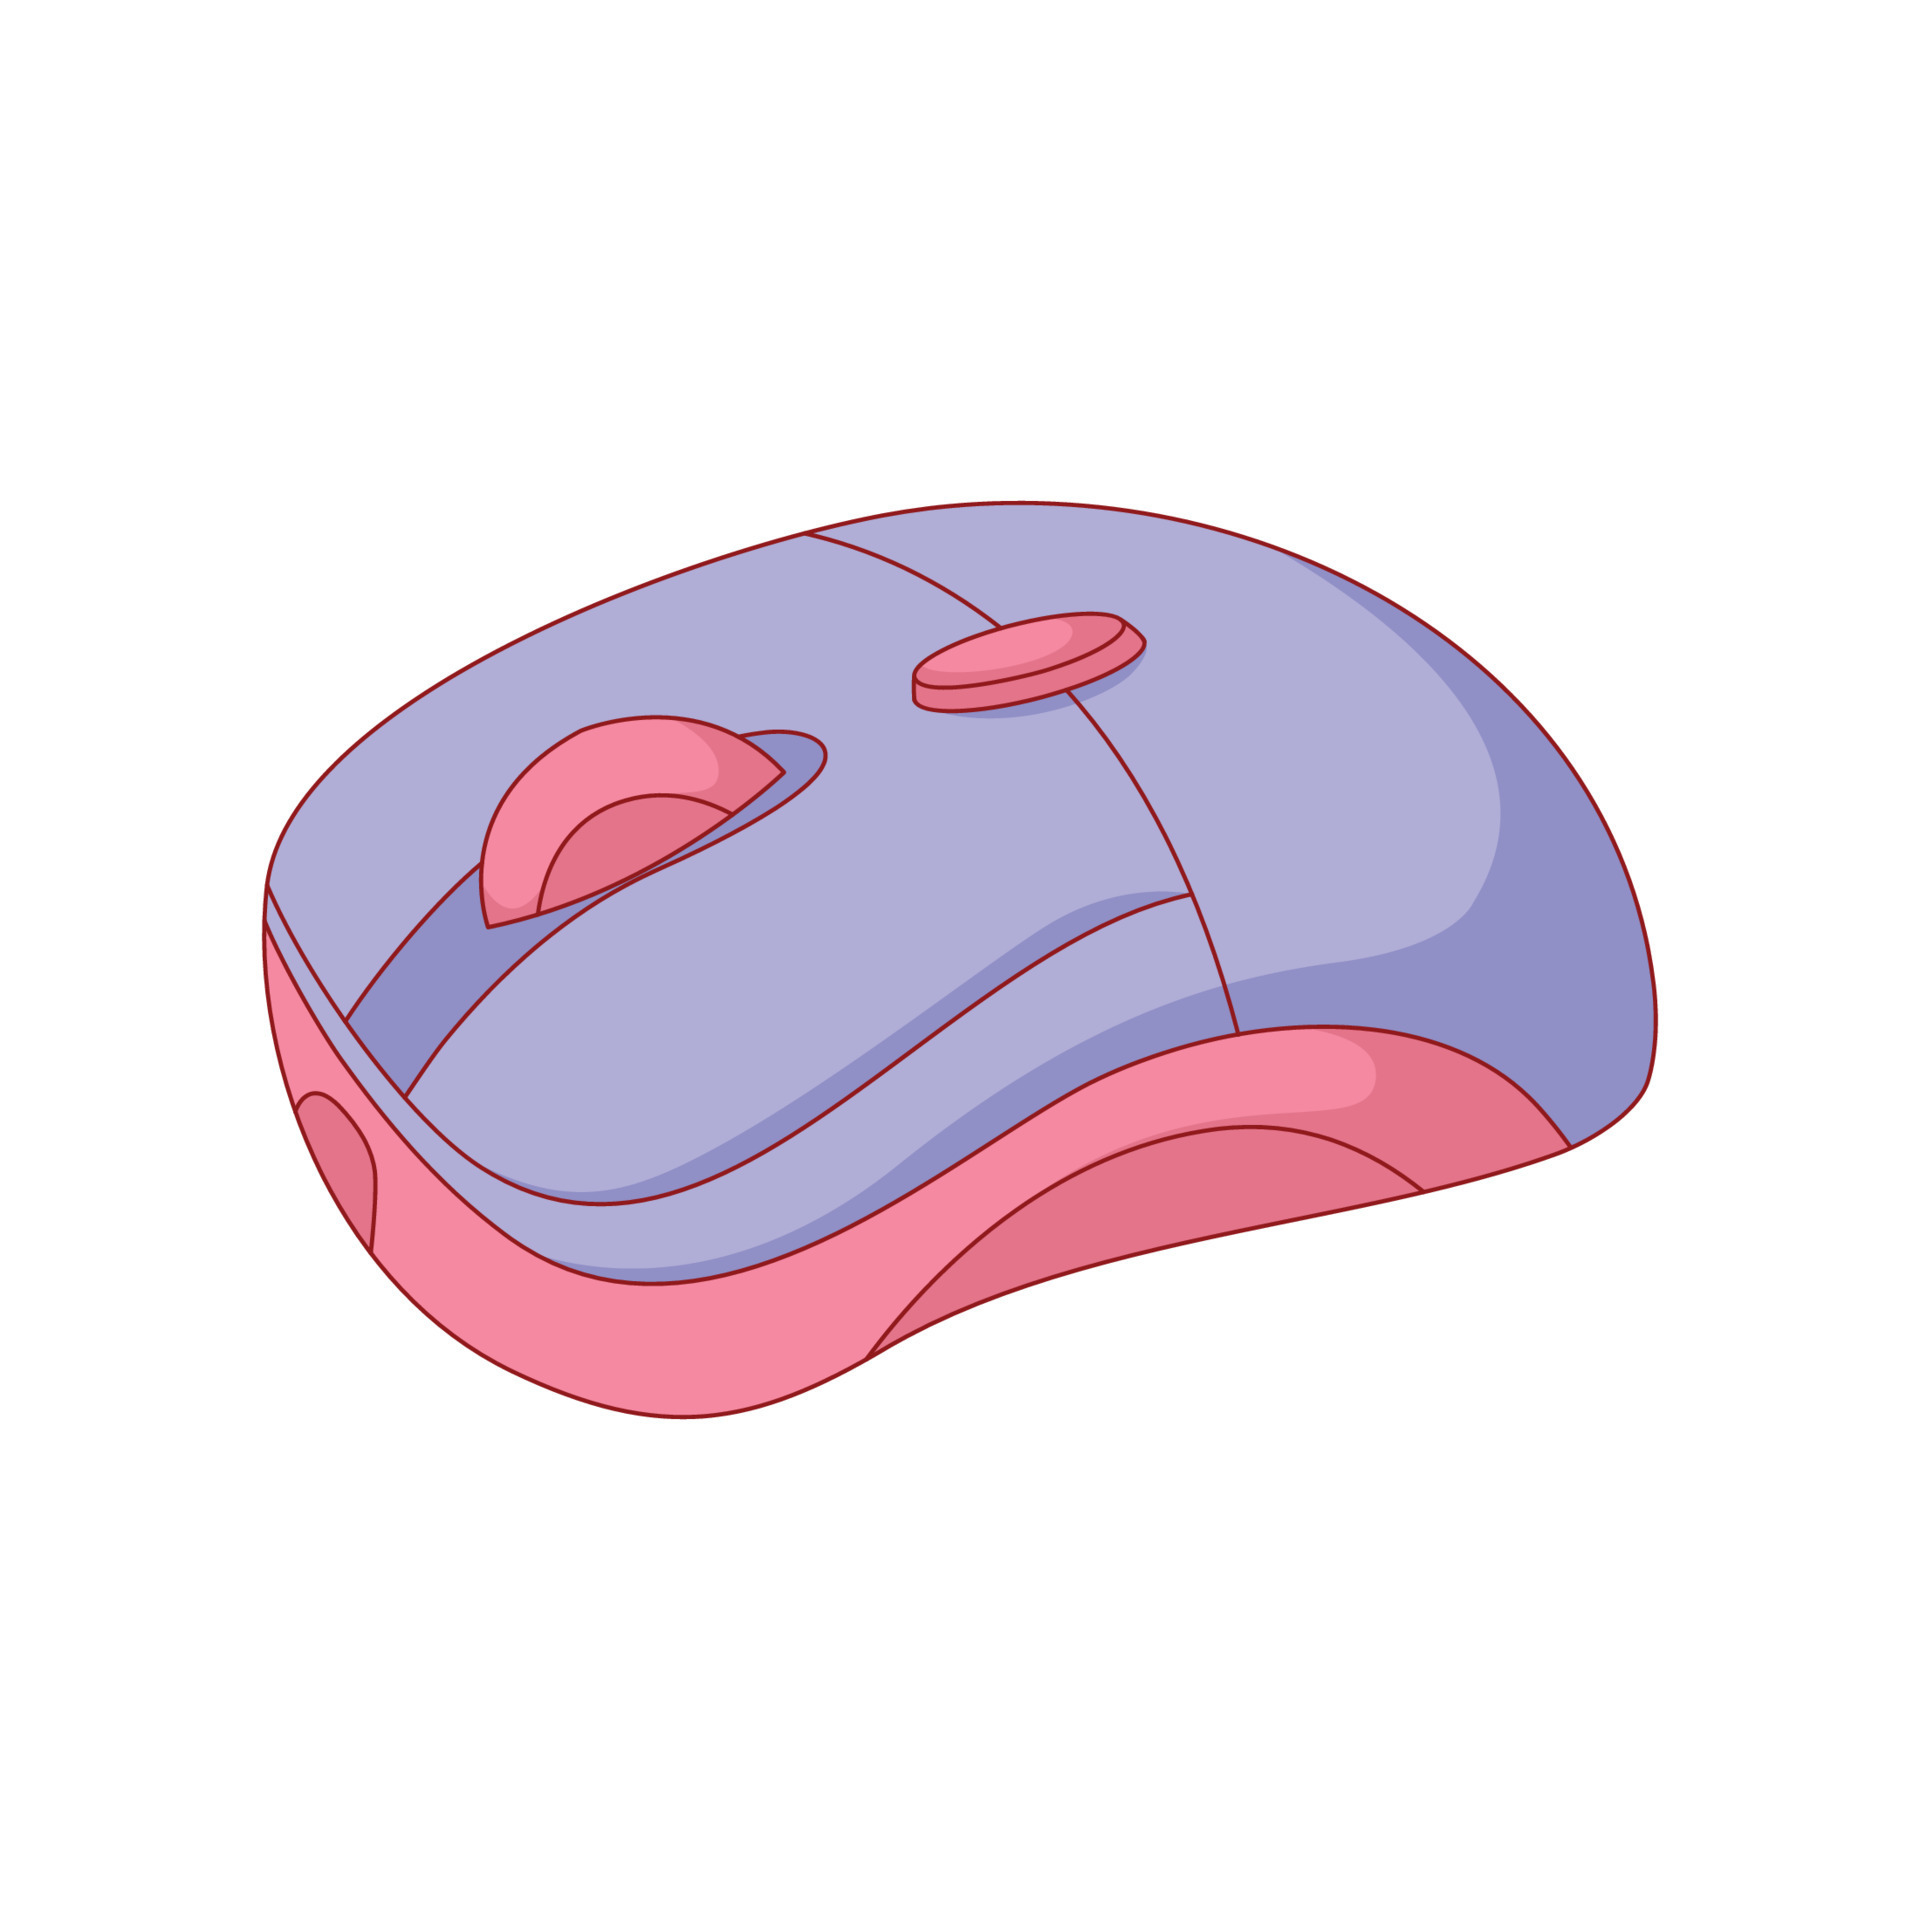mouse: (260, 499, 1662, 1417)
